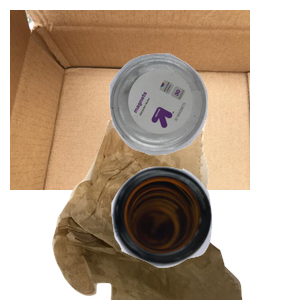cardboard: (10, 10, 250, 190)
glass: (109, 164, 300, 300)
plastic: (107, 51, 300, 199)
trash: (50, 120, 285, 300)
